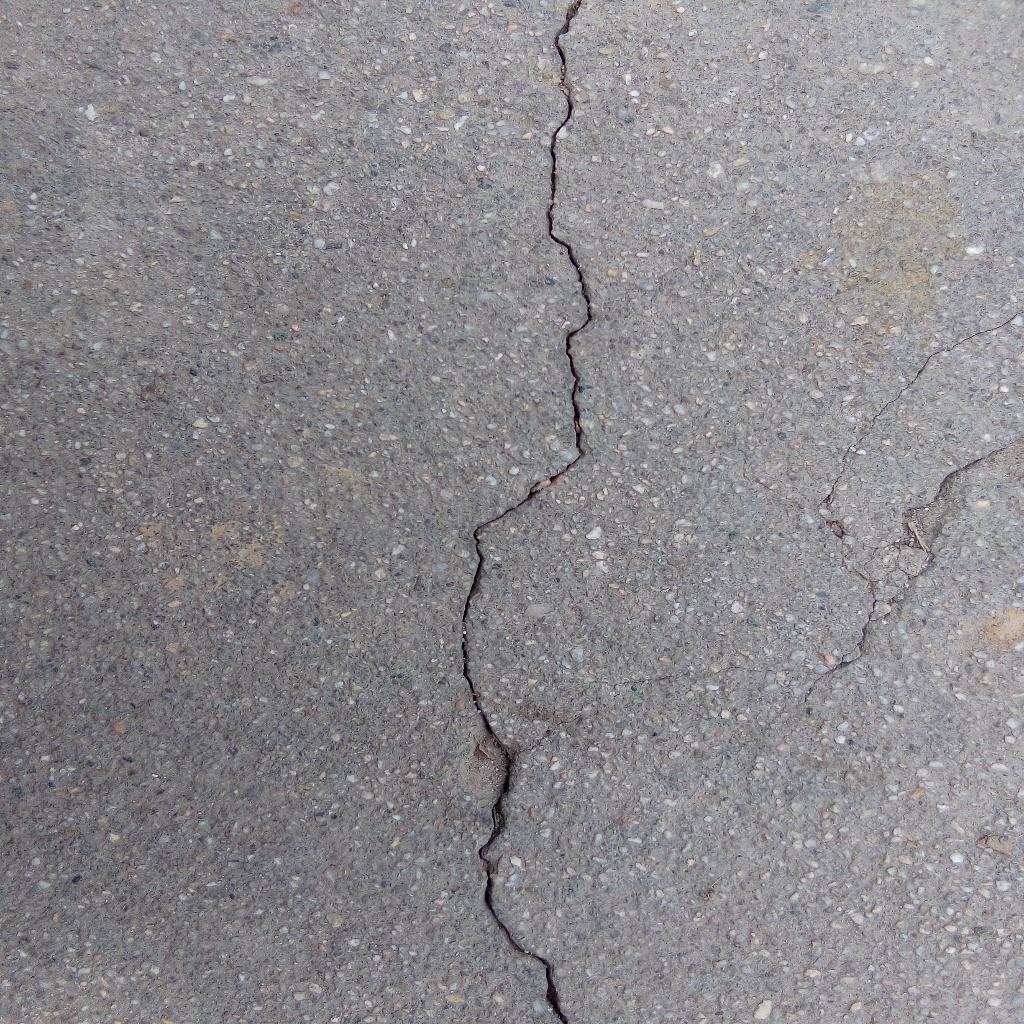Crack: (459, 1, 595, 1024)
